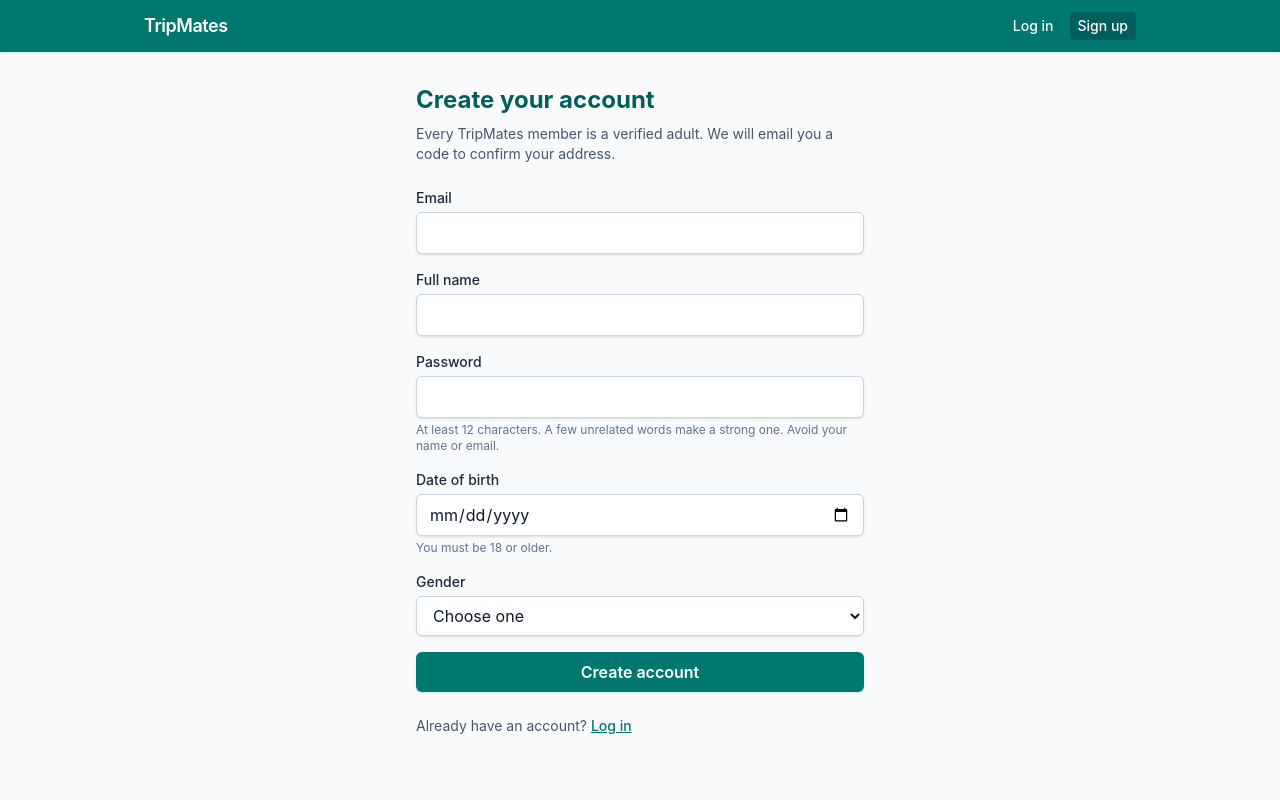
Test: signup screen › puts a server field error beside its field, not in the generic notice
The image size is (1280, 800).
In the field labelled "Email": (640, 233) [416,212,864,254], type "asha.verma@example.com"
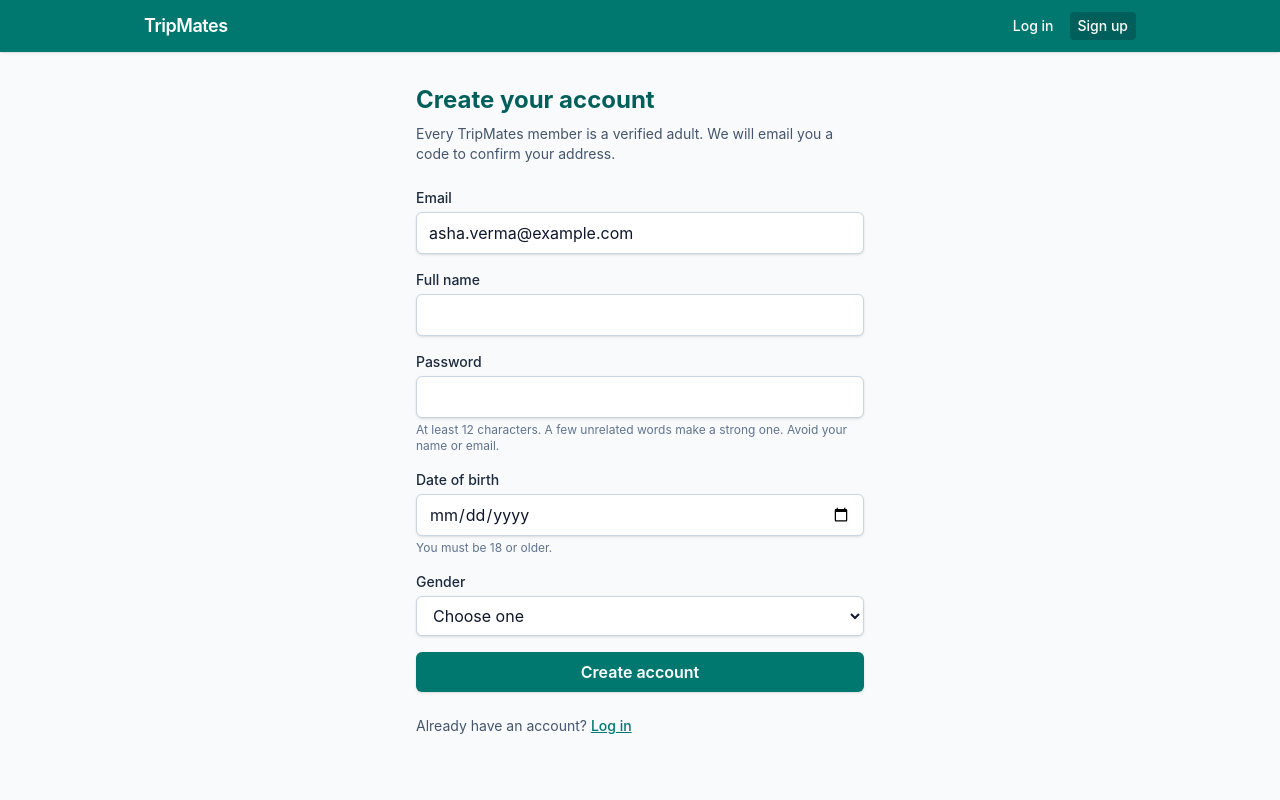
In the field labelled "Full name": (640, 315) [416,294,864,336], type "Asha Verma"
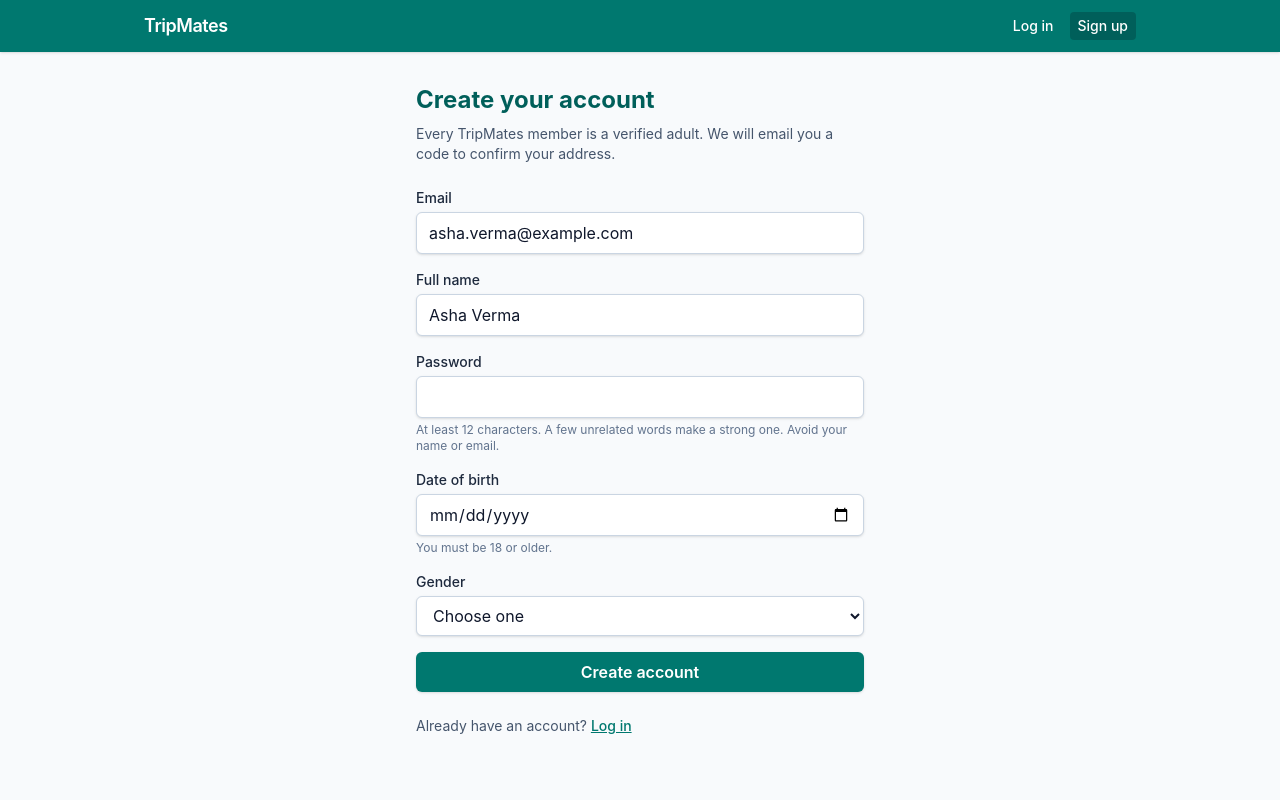
In the password field labelled "Password": (640, 397) [416,376,864,418], type "violet-kettle-harbour-91"
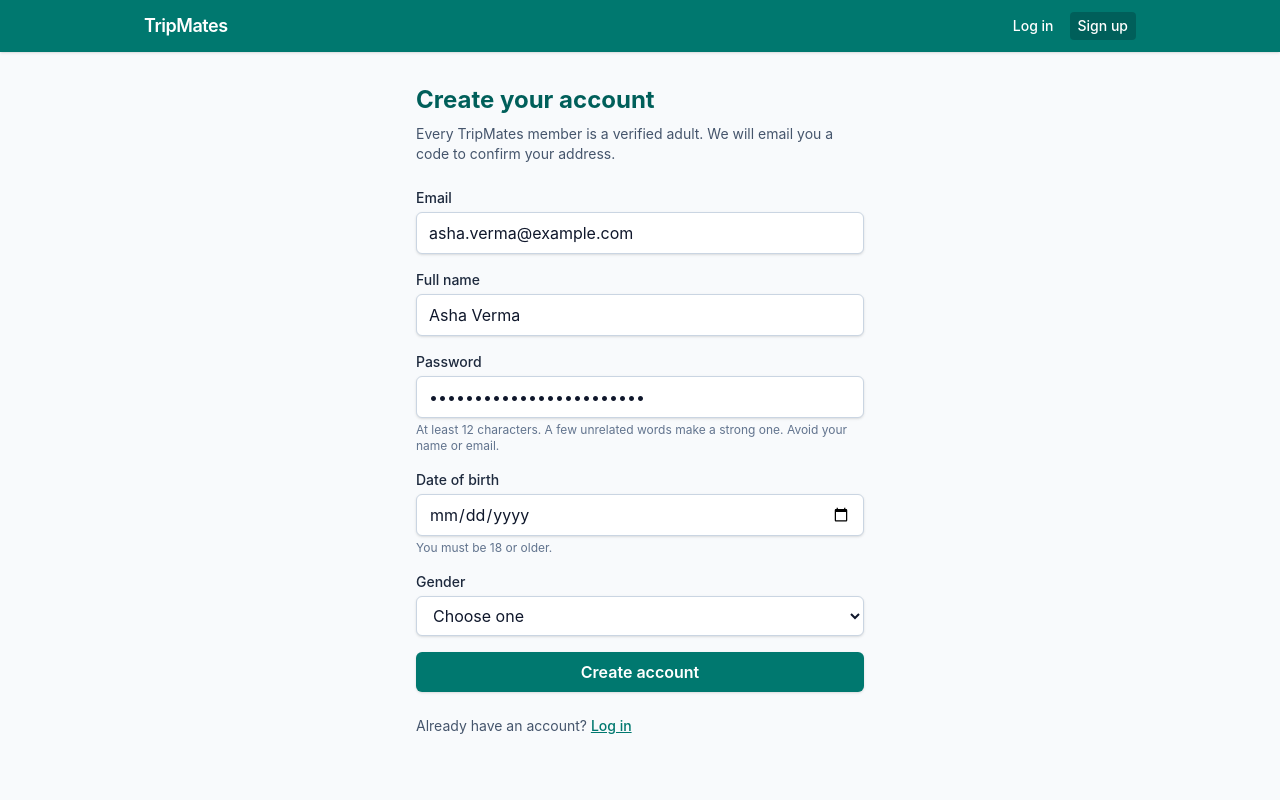
In the date field labelled "Date of birth": (640, 515) [416,494,864,536], type "2000-04-15"
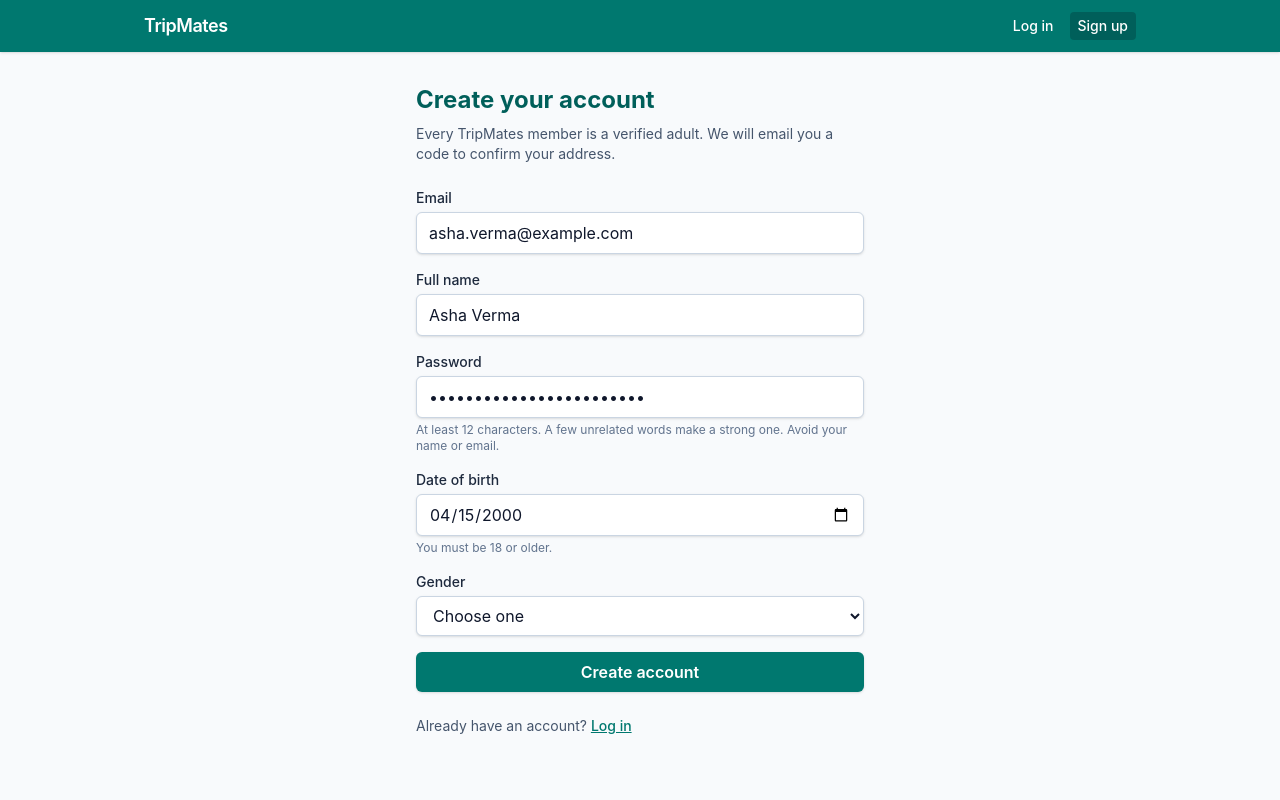
Select "Female" in the dropdown labelled "Gender": (640, 616) [416,596,864,636]
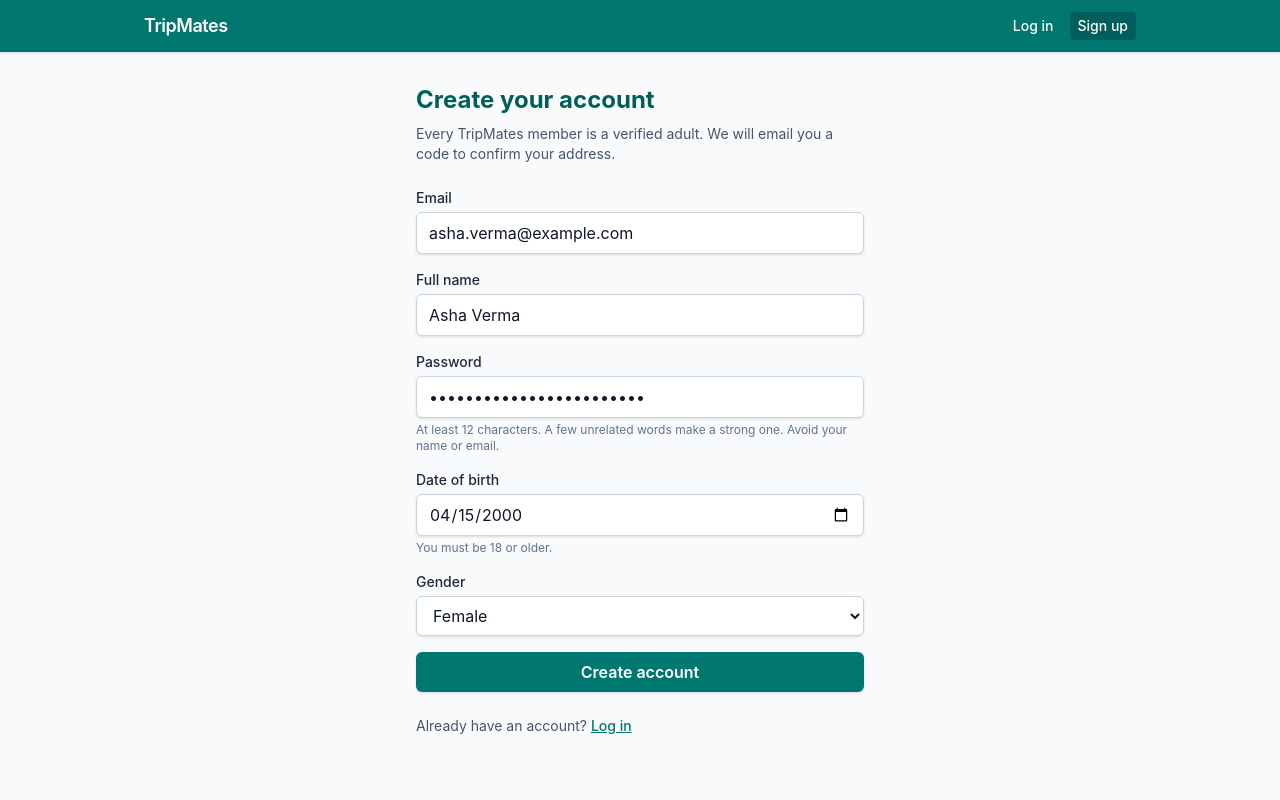
Click the button "Create account": (640, 672) [416,652,864,692]
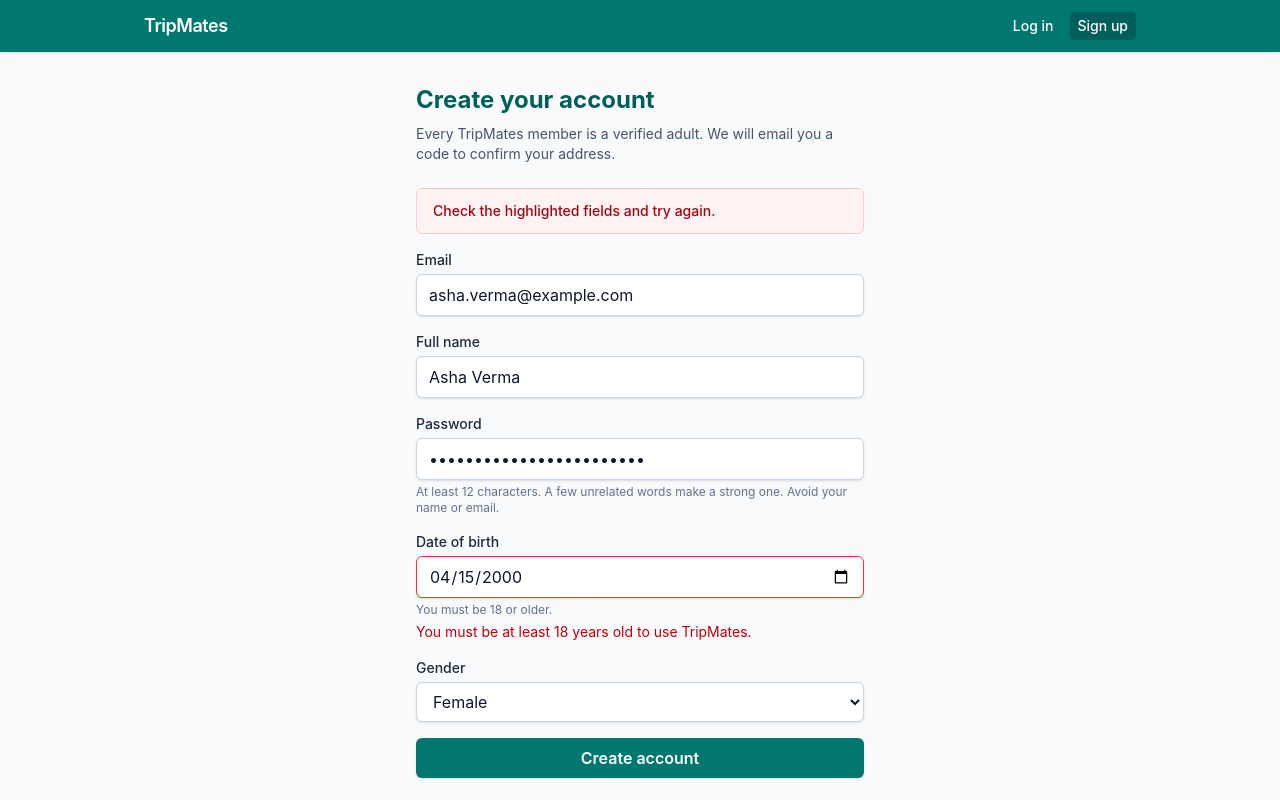
expect the message does not show "You must be at least 18 years old to use TripMates.": met
expect the text "You must be at least 18 years old to use TripMates." is shown: met, box [416,623,752,640]
expect the message shows "Check the highlighted fields": met, box [433,202,715,219]
